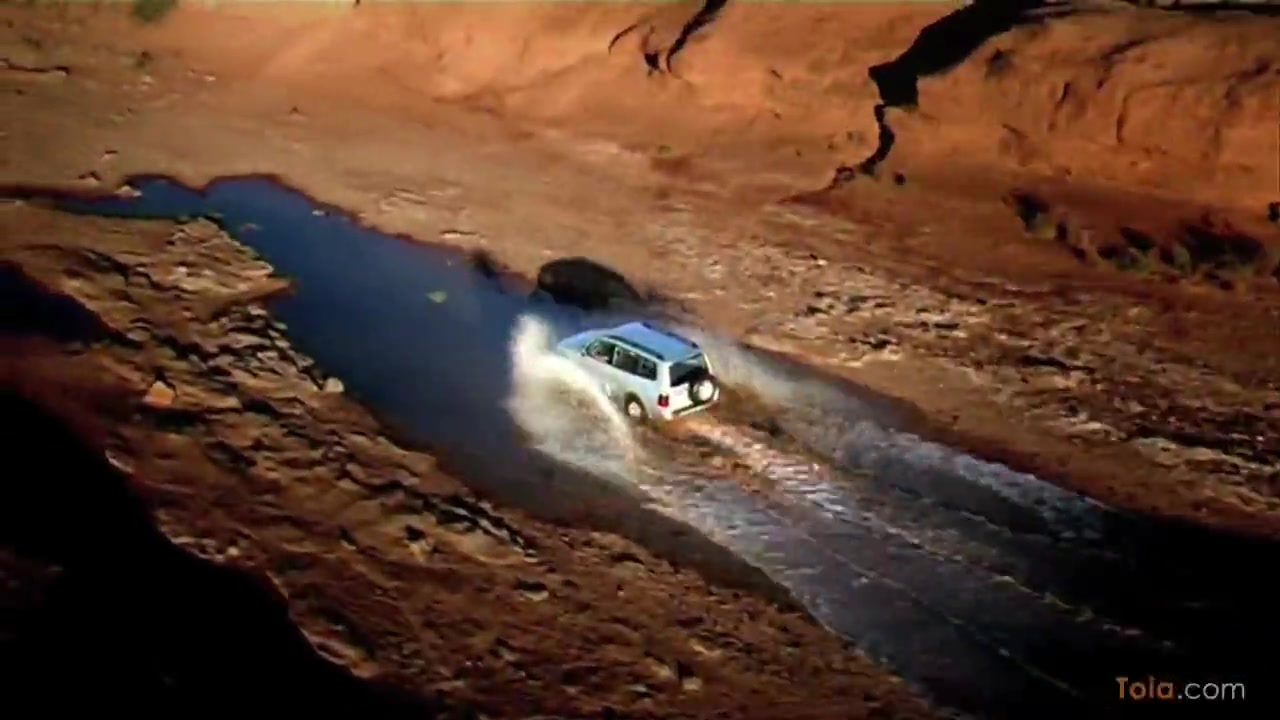car: (561, 316, 726, 426)
